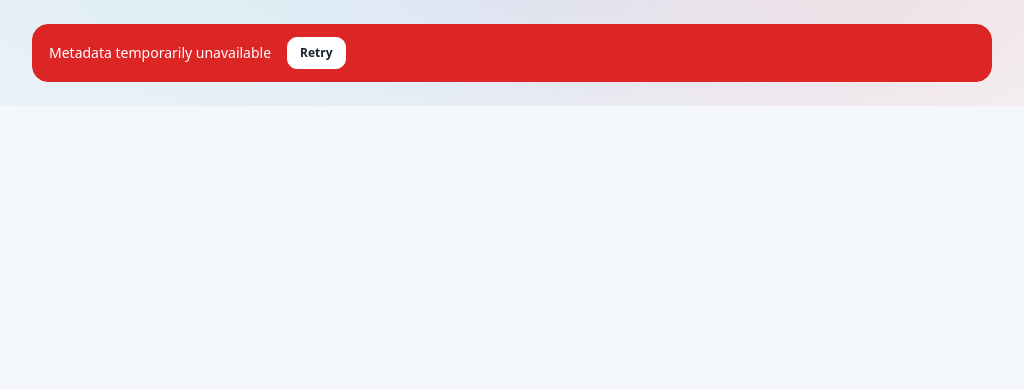
ResourcePage navigation › a failed metadata read can be retried without reloading the browser
Expected: the message shows "Metadata temporarily unavailable", [49,43,271,62]
What coordinates should you click on to do the following:
click the button "Retry"
I would click on:
 (316, 53)
Its box is [287,37,346,69].
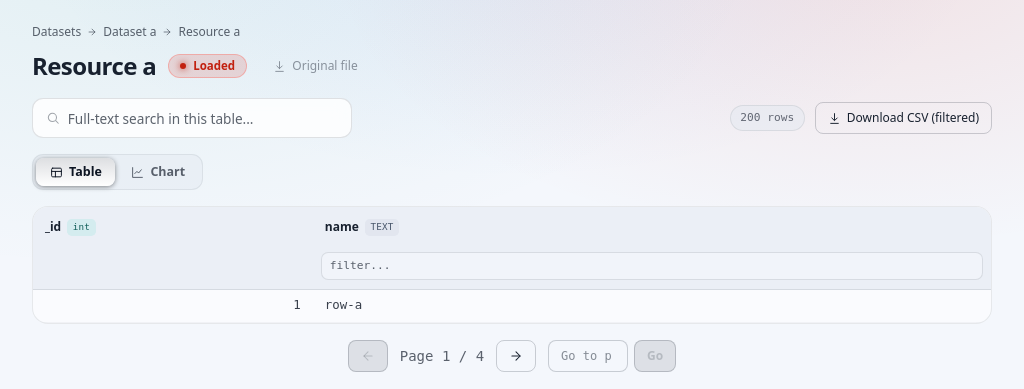
Now the text "row-a" is shown, box [313,290,991,323]
Now the message "Metadata temporarily unavailable Retry" is gone
